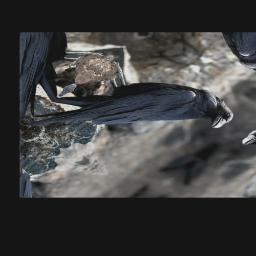Crow: (22, 45, 245, 191)
